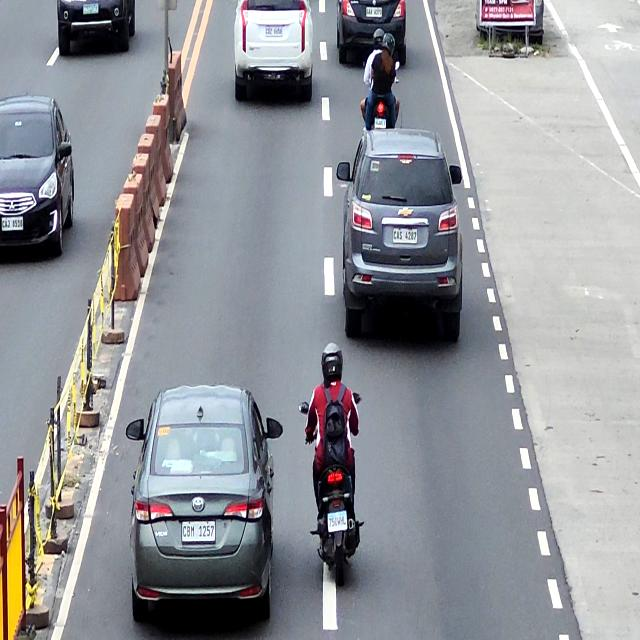Car: (126, 384, 283, 624), (338, 129, 462, 344), (0, 94, 75, 259), (233, 0, 314, 101), (56, 0, 136, 56), (337, 0, 406, 64)
License-Plate: (182, 522, 216, 542), (392, 228, 418, 245), (328, 512, 348, 532), (1, 217, 25, 231), (264, 25, 282, 38), (365, 6, 383, 18), (83, 3, 99, 13), (374, 118, 386, 130)
Motorcycle: (299, 391, 363, 587), (362, 58, 401, 131)
